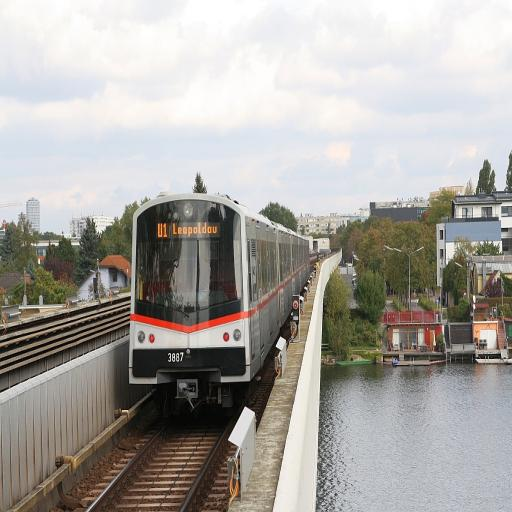V-Wagen: (128, 187, 311, 398)
